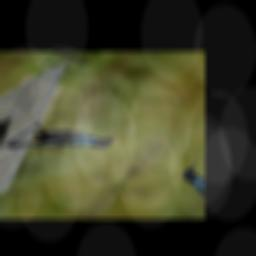Crow: (1, 106, 120, 176)
